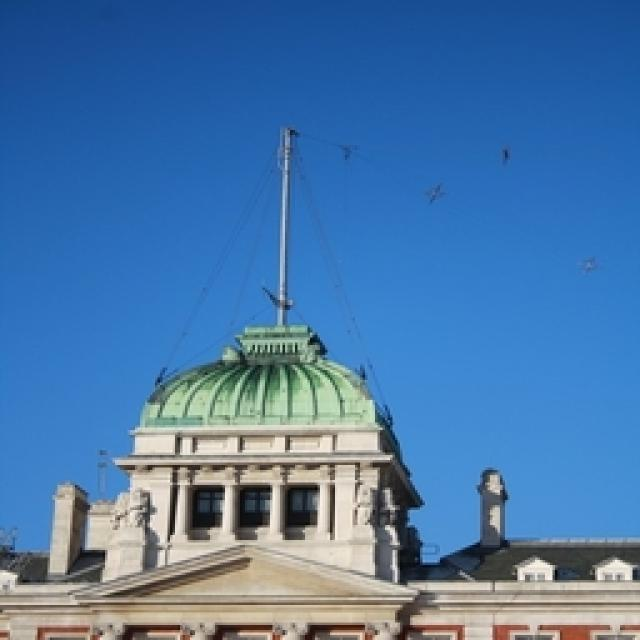Abbey: (98, 163, 468, 640)
